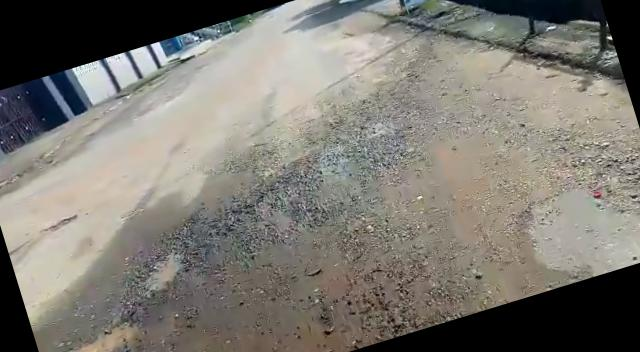pothole: (133, 242, 195, 295)
